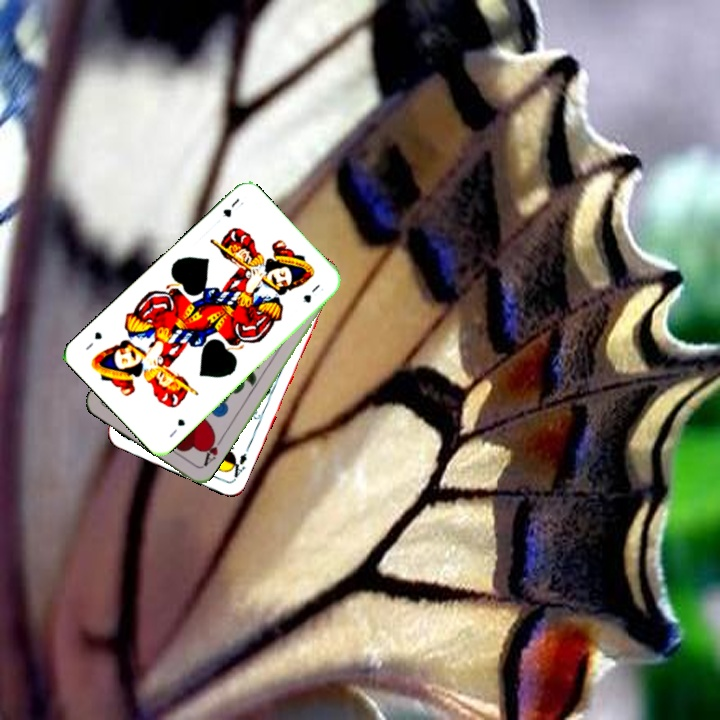EA: (225, 449, 249, 483)
GU: (219, 194, 246, 220), (165, 415, 188, 440)
HA: (198, 431, 226, 470)
